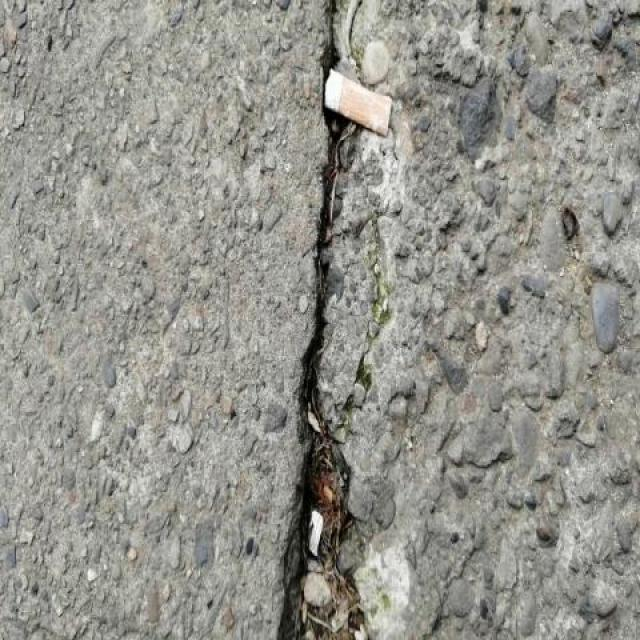non-organic waste: (321, 64, 394, 139)
